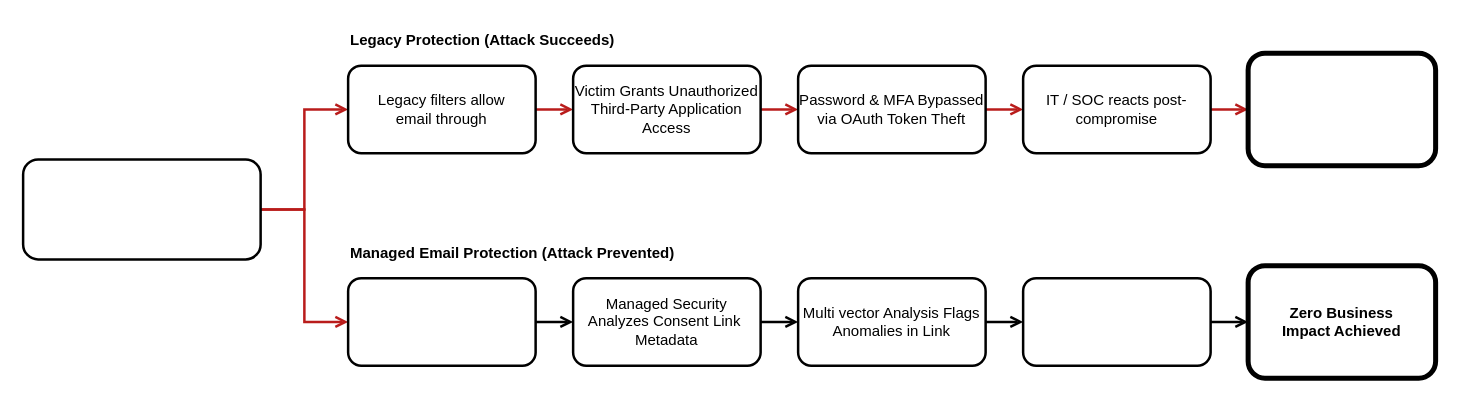
The diagram is 1459 pixels wide and 401 high, and some of its shapes have lost their labels. The centre of each missing label's shape, as x and y in pixels:
"Automated Quarantining & Zero-User Mitigation" goes at [1116,321].
"Consent Phishing Attack Initiated ( AiTM Credential Phishing)" goes at [141,209].
"Email Analysed by Managed Email Gateway" goes at [441,321].
"Operational and Financial Impact Realized" goes at [1341,109].
